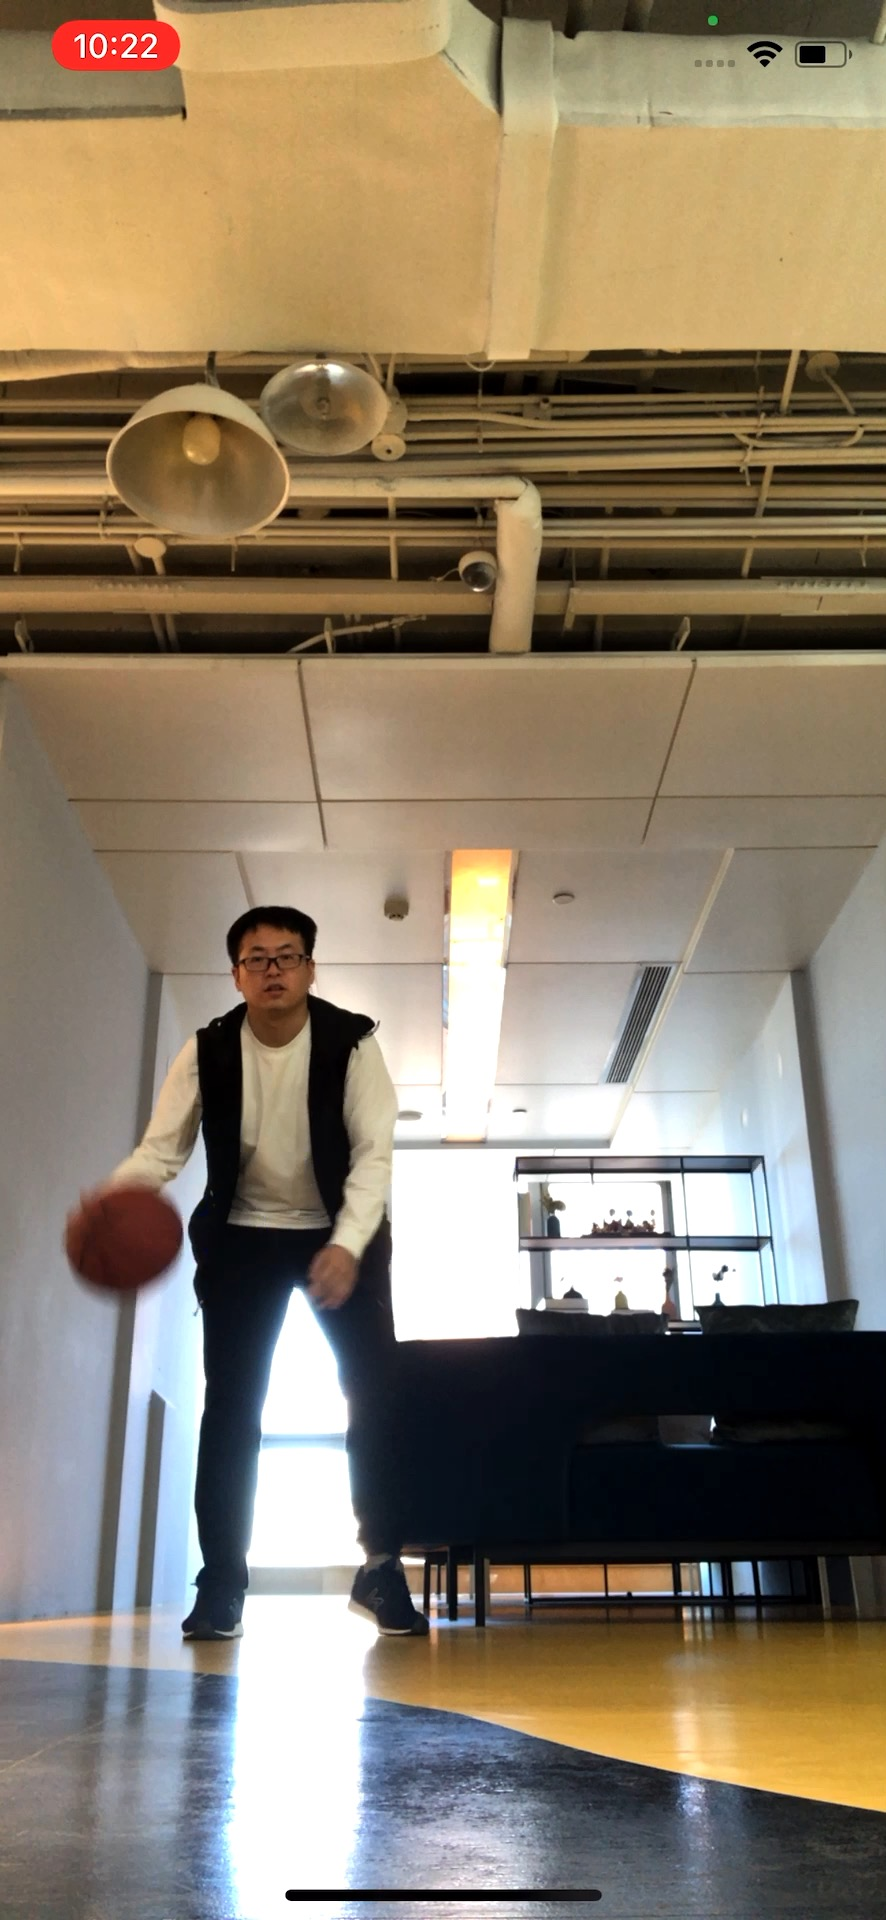ball: (65, 1187, 182, 1296)
